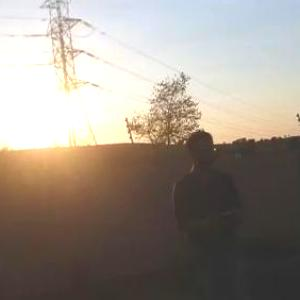follow: (160, 119, 249, 299)
